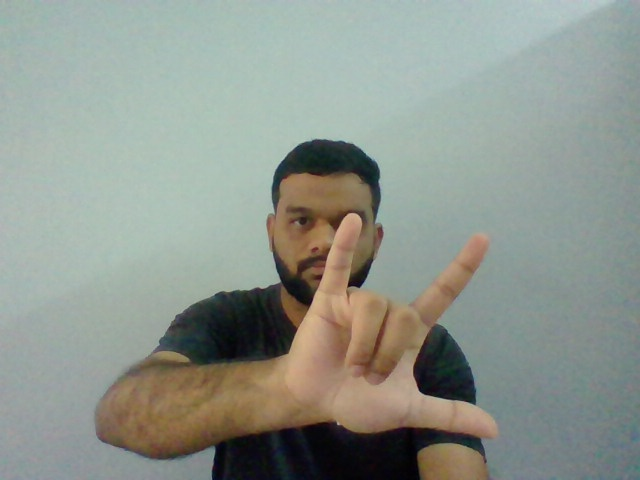I love you: (301, 212, 502, 442)
